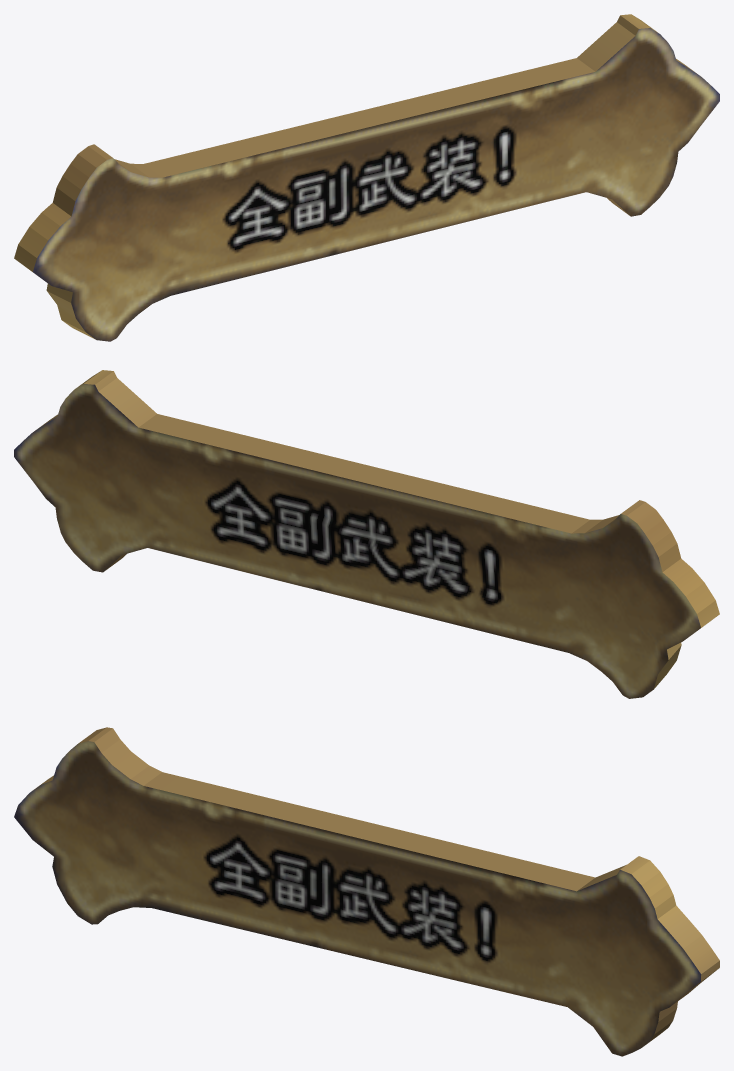
File: NameTag_Played.glb
3 renders of one model, top to bottom at view 1: azimuth 30°, elevation 25°; view 2: azimuth 150°, elevation 25°; view 3: azimuth 330°, elevation 25°, orthographic.
Visible parts, largest first — view 1: Circle.003; view 2: Circle.003; view 3: Circle.003.
Boxes of the visible parts, x1,y1,x2,y2 form: Circle.003: (14, 14, 719, 341); Circle.003: (14, 370, 719, 698); Circle.003: (14, 727, 719, 1056).
Size of the model in its own units: 5.91 by 1.53 by 0.28.
Materials: 1 (1 with a texture image).
